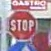stop: (7, 8, 37, 41)
